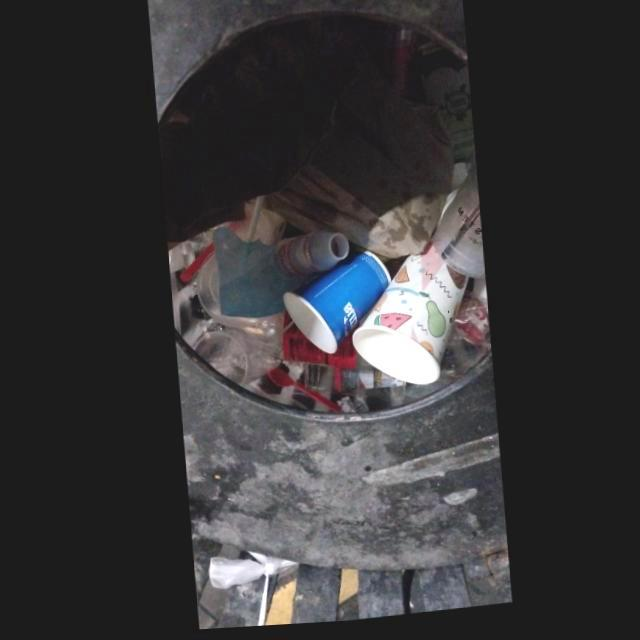cardboard: (349, 250, 466, 390), (281, 254, 390, 358)
plastic_container: (431, 165, 483, 284), (192, 331, 282, 389)
